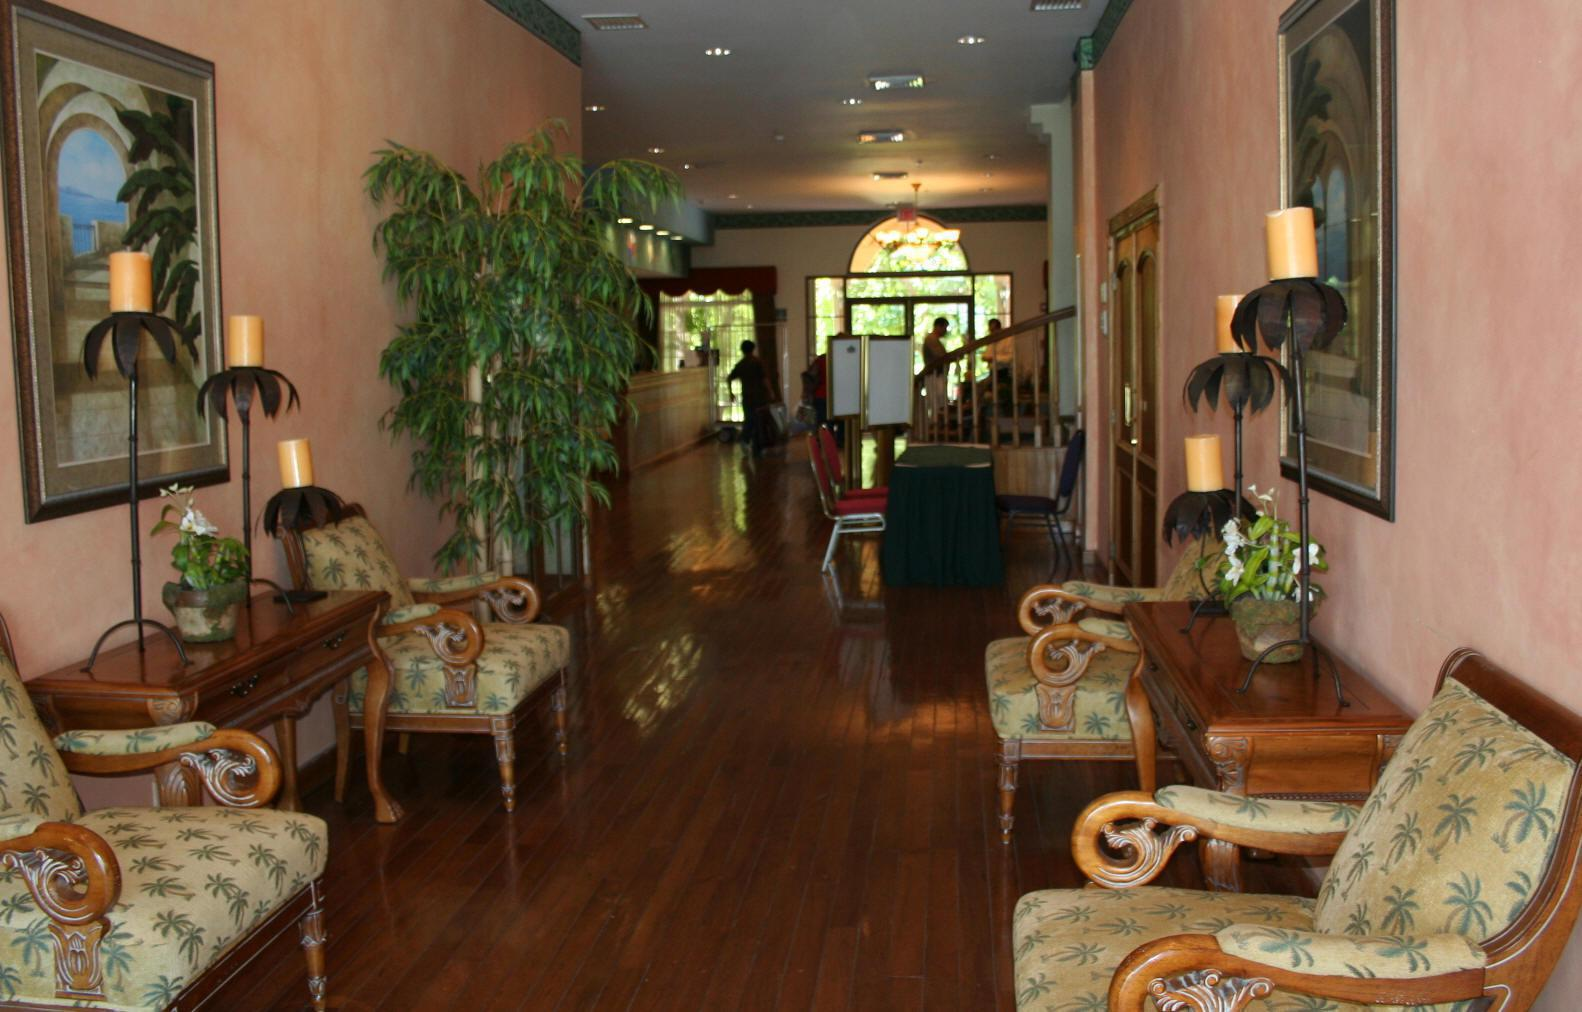Matera: (381, 139, 618, 633)
Puerta: (1103, 220, 1168, 580)
